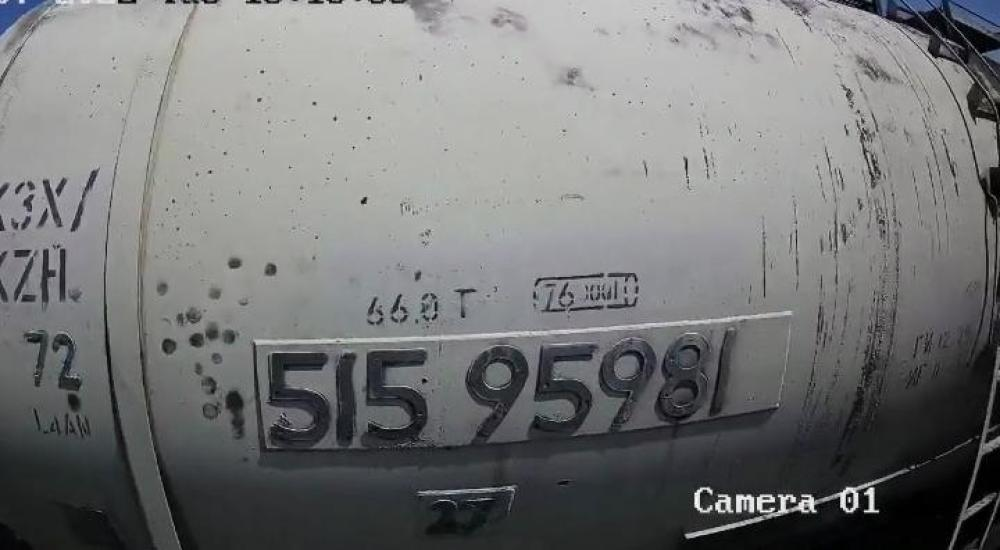Wagon-number: (259, 324, 747, 450)
